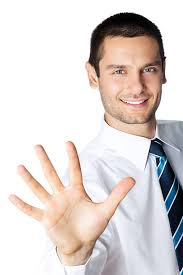palm: (6, 137, 138, 251)
